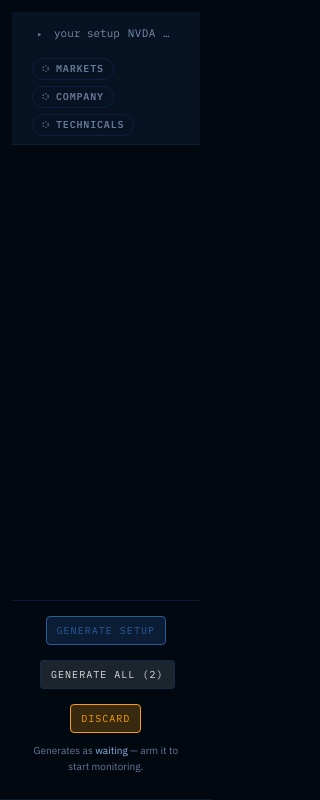
Test: MentorSurface — the Generate bar › everything refused in a batch says which and why
This screenshot has width=320, height=800.
Click the button "Generate all (2)".
click(107, 674)  # box [40,660,174,689]
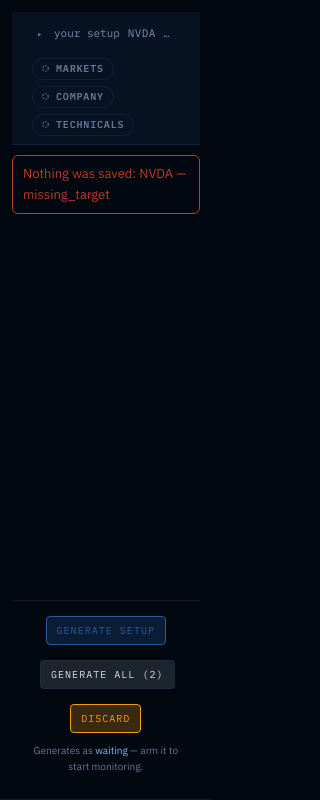
Result: the message "Nothing was saved: NVDA — missing_target" is shown at [12,155,200,214]
